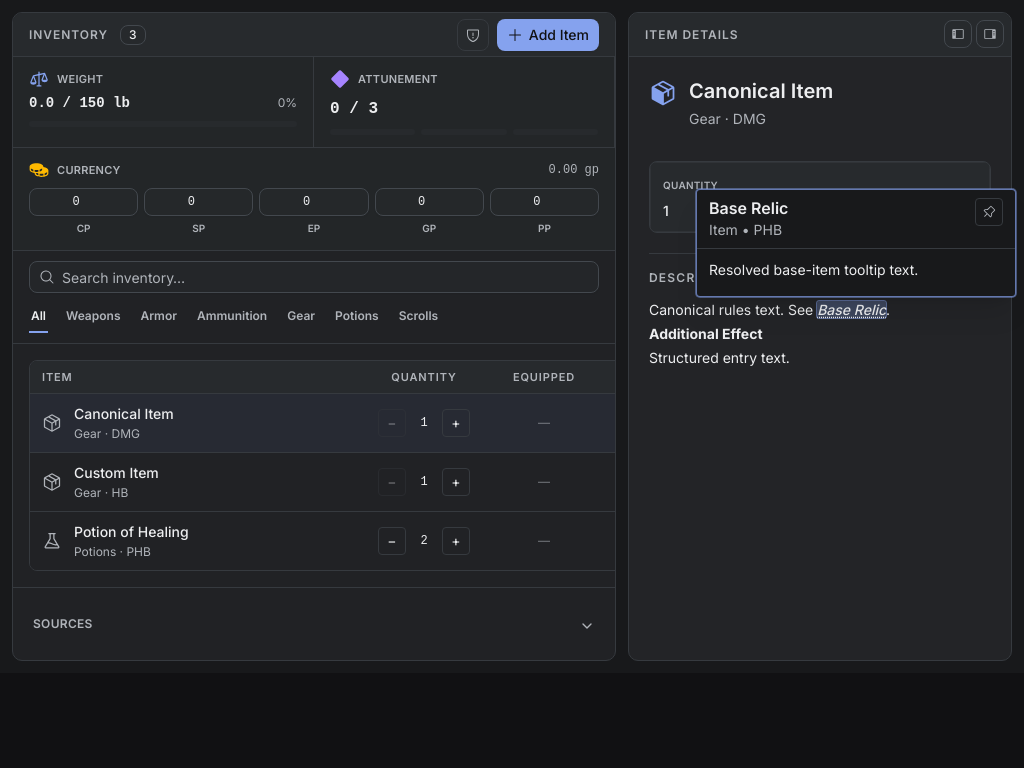
Test: EquipmentPage item details › renders canonical entries, stored fallbacks, and a persistent inventory header
Later steps or results of the test are not shown.
Expected: the text "Canonical rules text. See Base Relic ." is shown, [649,301,890,318]
Expected: the text "Additional Effect" is shown, [649,325,762,342]
Click the button with aria-label "Inspect Custom Item" at (116, 472), box [42,453,368,511]
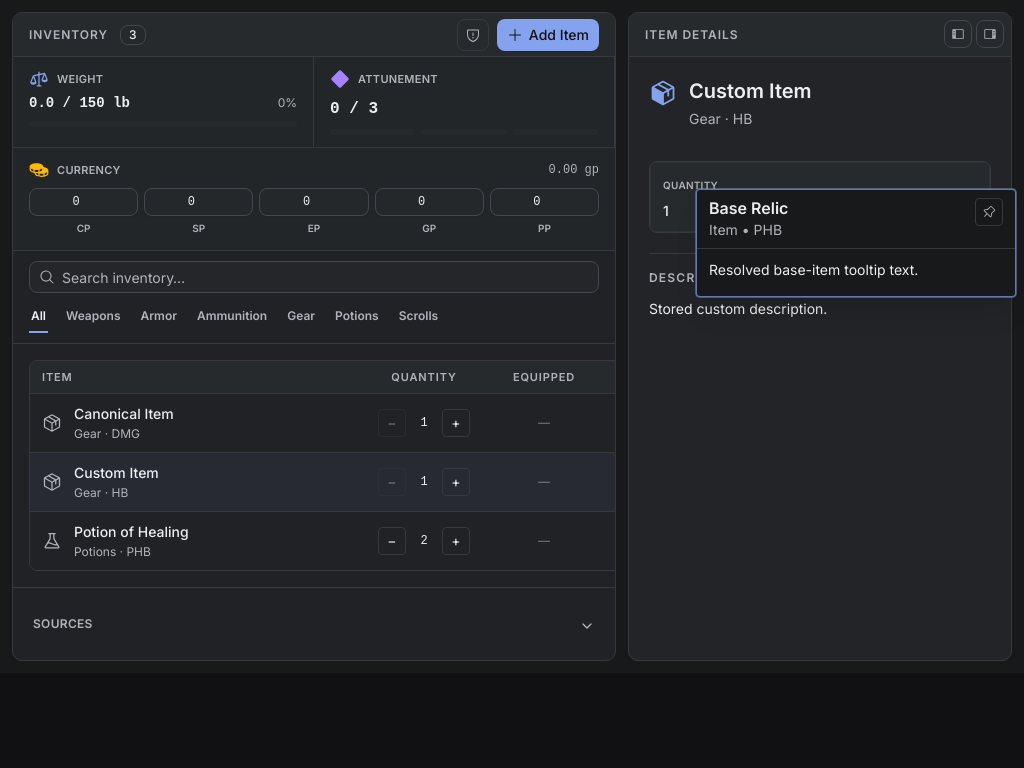
Expected: the text "Stored custom description." is shown, [649,300,827,317]
Expected: the text "Canonical rules text" is gone
